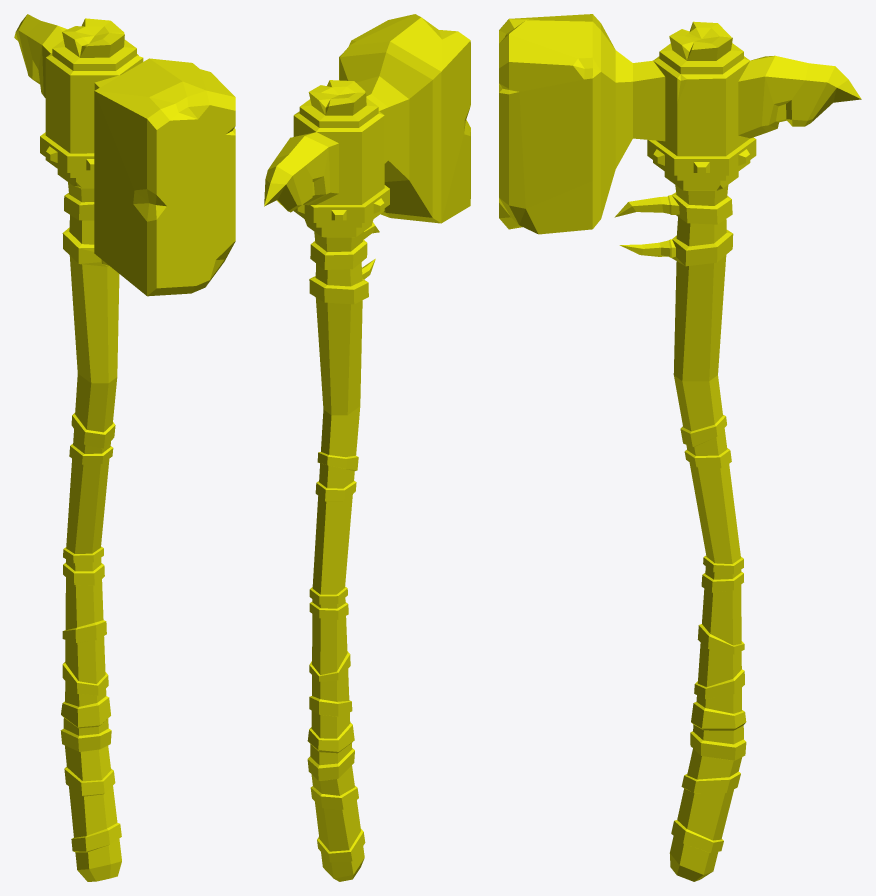
Rendered from SM_Wep_BigOrk_01.glb.
3 views of the same model, side by side, from view 1: azimuth 30°, elevation 25°; view 2: azimuth 150°, elevation 25°; view 3: azimuth 270°, elevation 25° (orthographic). The views are drawn at different scales.
Parts seen in each view (by area): view 1: SM_Wep_BigOrk_01; view 2: SM_Wep_BigOrk_01; view 3: SM_Wep_BigOrk_01.
Boxes of the visible parts, box(x1,y1,x2,y2) form: SM_Wep_BigOrk_01: box(14, 14, 235, 881); SM_Wep_BigOrk_01: box(264, 14, 470, 881); SM_Wep_BigOrk_01: box(499, 14, 861, 881).
Size of the model in its own units: 0.216 by 1.62 by 0.6208.
